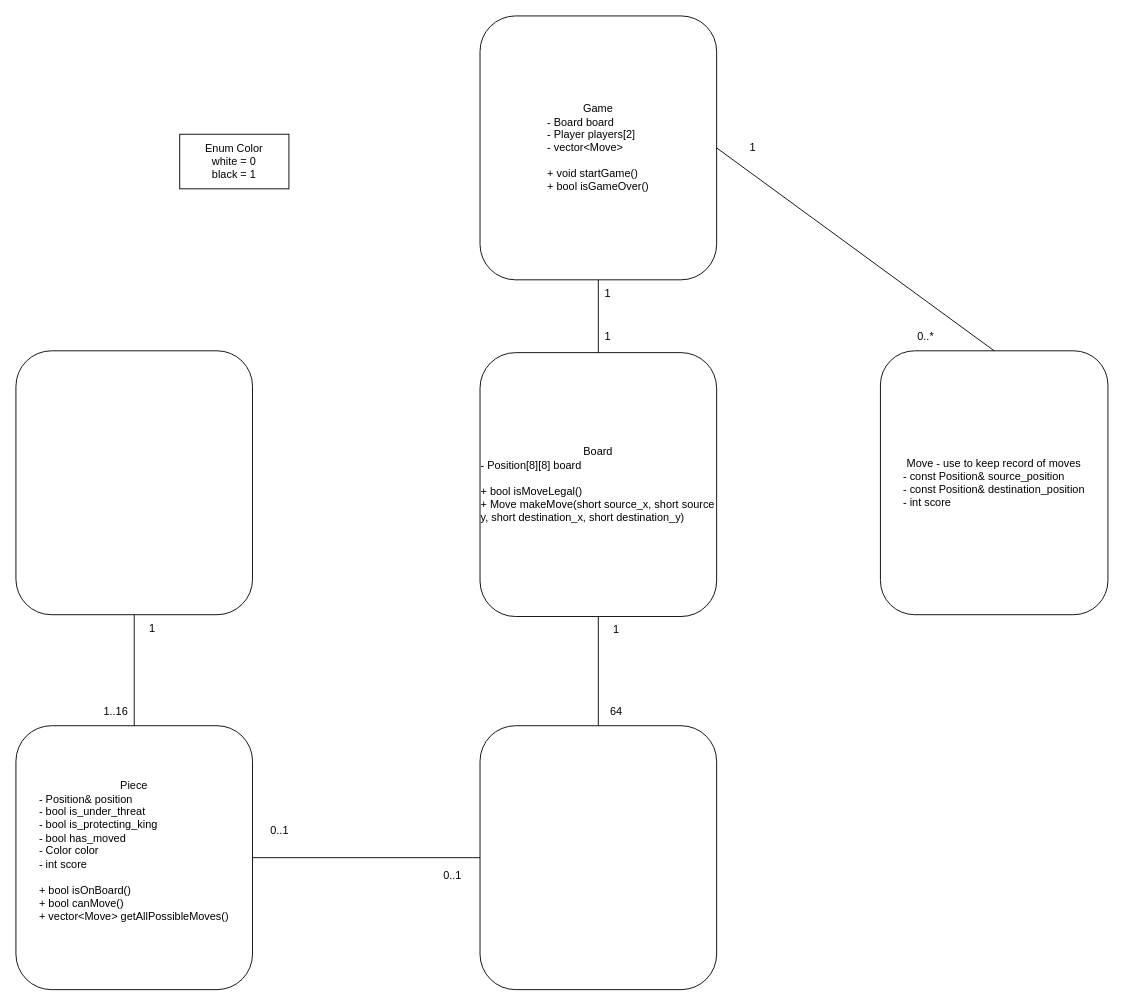
Image size: 1124x1006. Some labels were removed from this diagram. Each missing label, with the box of its shape:
Player - vector <Piece&> pieces: (15, 350, 253, 615)
Position - short x_position - short y_position - Piece piece - Color color: (479, 725, 717, 990)
